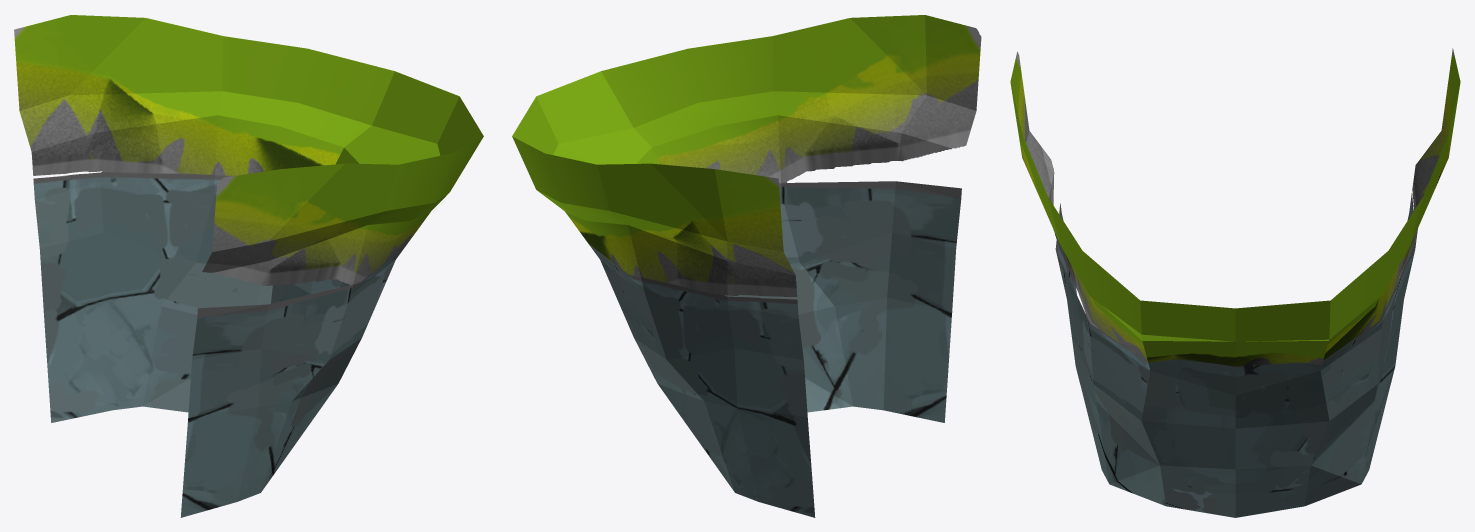
File: rocks_wall_04.fbx
The picture shows the model from 3 angles, left to right: view 1: azimuth 30°, elevation 25°; view 2: azimuth 150°, elevation 25°; view 3: azimuth 270°, elevation 25°; orthographic projection. The views are drawn at different scales.
Parts seen in each view (by area): view 1: Cube.001; view 2: Cube.001; view 3: Cube.001.
Boxes of the visible parts, <box> form: Cube.001: <box>14,15,483,517</box>; Cube.001: <box>512,15,981,517</box>; Cube.001: <box>1010,48,1460,517</box>.
Size of the model in its own units: 227 by 253 by 241.
